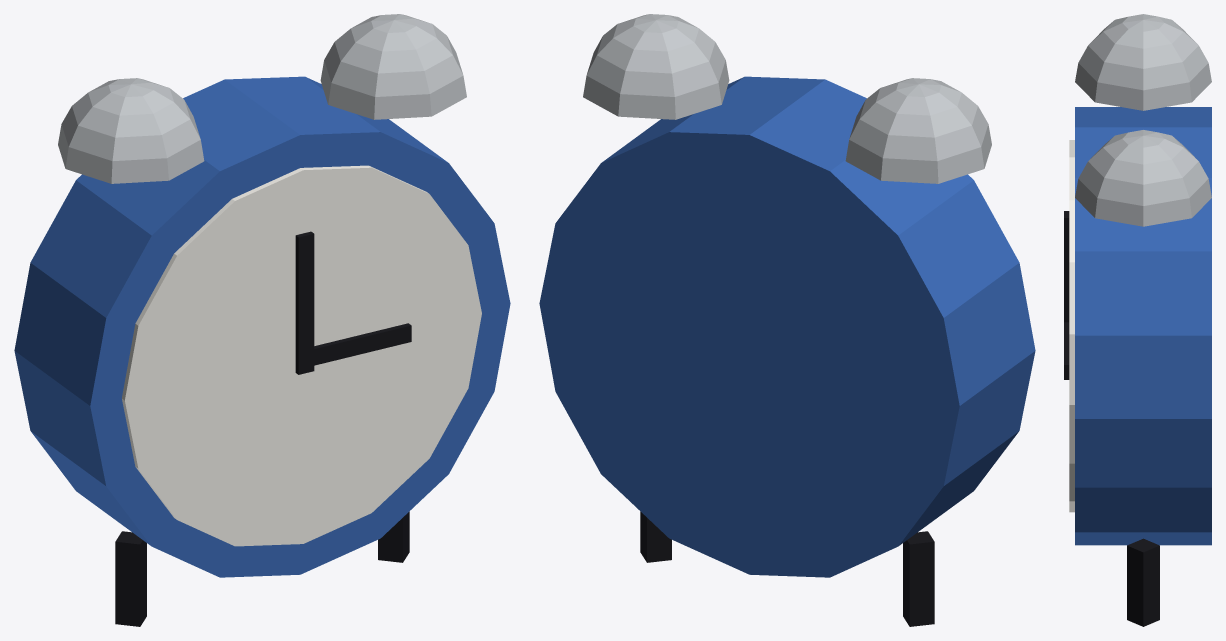
Rendered from delivery_clock.glb.
The picture shows the model from 3 angles, left to right: view 1: azimuth 30°, elevation 25°; view 2: azimuth 150°, elevation 25°; view 3: azimuth 270°, elevation 25°; orthographic projection. The views are drawn at different scales.
Visible parts, largest first — view 1: face_white, body_clock_blue, bells_steel (×2), hands_black (×2), legs_black (×2); view 2: body_clock_blue, bells_steel (×2), legs_black (×2); view 3: body_clock_blue, bells_steel (×2), legs_black, face_white, hands_black (×2).
Part boxes in pixels (<box>): face_white: <box>122,165,481,546</box>; body_clock_blue: <box>14,76,510,577</box>; bells_steel (×2): <box>58,14,466,183</box>; hands_black (×2): <box>295,231,411,374</box>; legs_black (×2): <box>115,511,409,626</box>; body_clock_blue: <box>539,76,1035,577</box>; bells_steel (×2): <box>583,14,991,183</box>; legs_black (×2): <box>640,511,934,626</box>; body_clock_blue: <box>1075,107,1211,545</box>; bells_steel (×2): <box>1075,14,1211,226</box>; legs_black: <box>1127,538,1159,626</box>; face_white: <box>1069,140,1074,512</box>; hands_black (×2): <box>1064,211,1069,379</box>.
Size of the model in its own units: 0.16 by 0.195 by 0.054.
